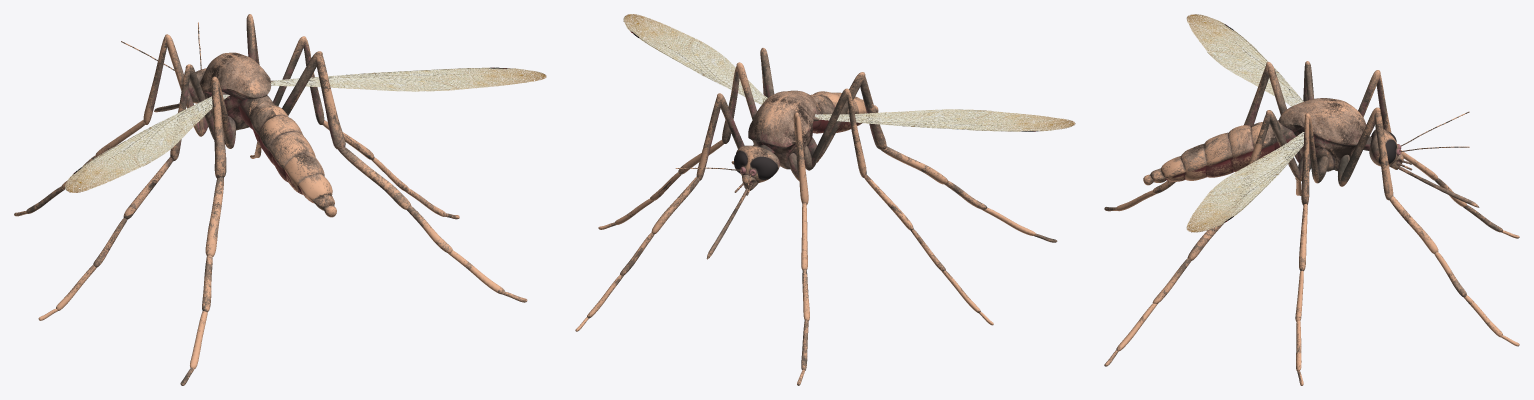
File: mosquito.glb
3 renders of one model, left to right at view 1: azimuth 30°, elevation 25°; view 2: azimuth 150°, elevation 25°; view 3: azimuth 270°, elevation 25°, orthographic. The views are drawn at different scales.
Visible parts, largest first — view 1: Default__0, Plane; view 2: Default__0, Plane; view 3: Default__0, Plane.
Part boxes in pixels (x1=…): Default__0: x1=14, y1=14, x2=527, y2=385; Plane: x1=65, y1=67, x2=546, y2=192; Default__0: x1=575, y1=48, x2=1057, y2=385; Plane: x1=623, y1=14, x2=1075, y2=131; Default__0: x1=1104, y1=61, x2=1519, y2=385; Plane: x1=1186, y1=14, x2=1304, y2=232.
Bounding box in the file's own units: 0.221 × 0.0971 × 0.1772.
2 materials, 2 textured.
